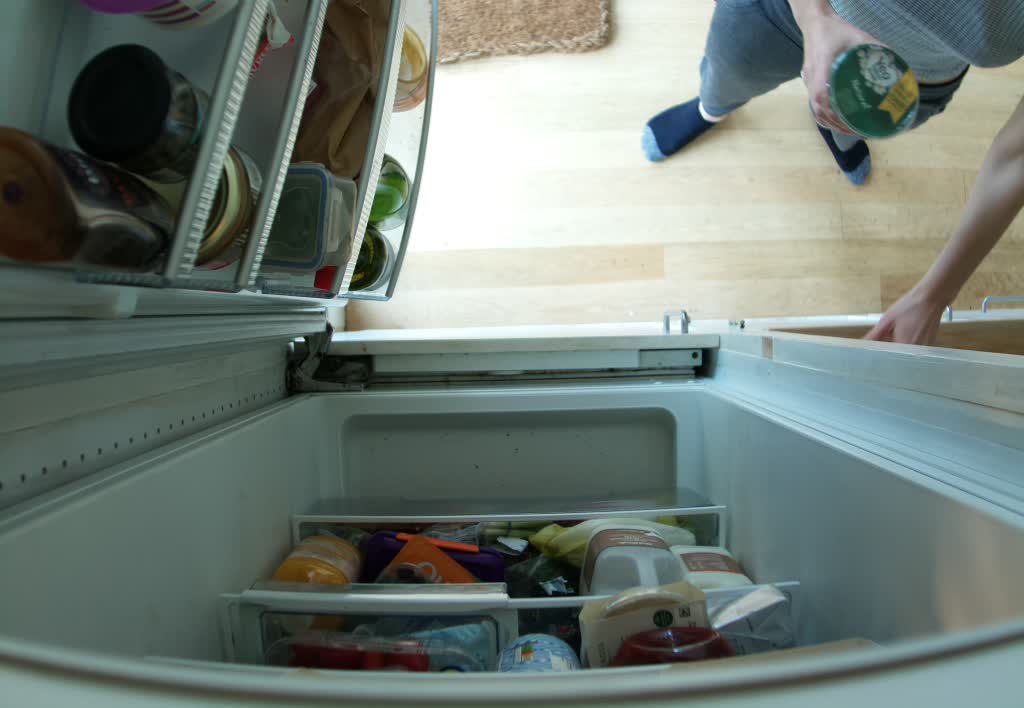yogurt: (817, 40, 924, 147)
